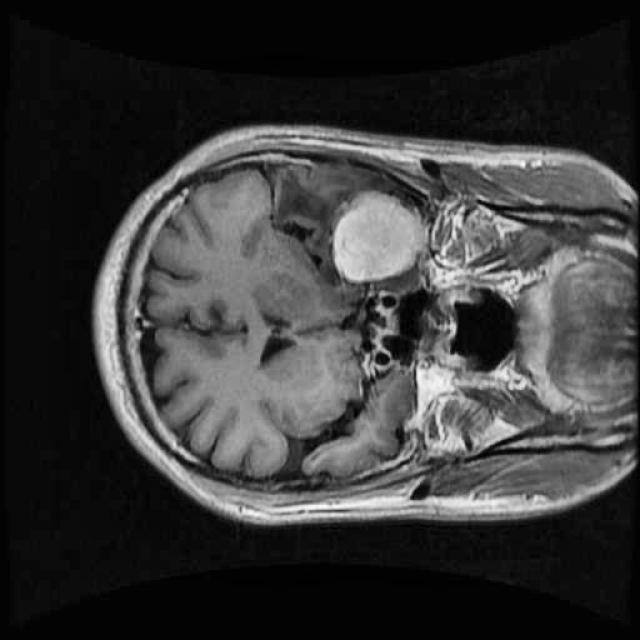Tumor: (321, 160, 456, 292)
